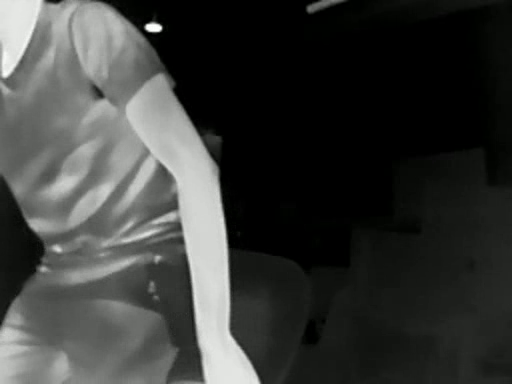chest: (0, 3, 104, 200)
